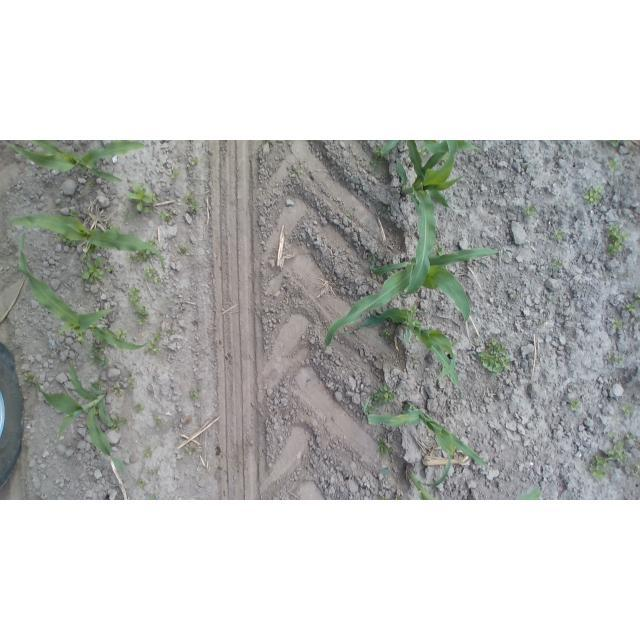Maize: (326, 247, 511, 347), (19, 229, 150, 349), (340, 308, 463, 404), (33, 350, 127, 475), (396, 141, 464, 296), (10, 215, 167, 274), (363, 395, 488, 466), (3, 141, 149, 184), (406, 453, 452, 500), (423, 140, 482, 154), (514, 486, 542, 500), (379, 141, 399, 156), (148, 493, 156, 500)
Weeds: (588, 441, 628, 481), (478, 336, 511, 377), (127, 182, 157, 214), (605, 223, 630, 256), (79, 256, 105, 282), (370, 380, 397, 404), (87, 342, 110, 370), (145, 332, 164, 356), (583, 184, 603, 206), (377, 435, 392, 457), (183, 193, 200, 211), (133, 306, 149, 325), (128, 287, 142, 308), (112, 416, 128, 433), (608, 349, 624, 365), (127, 252, 150, 263), (570, 398, 584, 415), (608, 158, 623, 173), (521, 202, 537, 216), (189, 386, 202, 403), (626, 463, 640, 478), (550, 258, 564, 273), (551, 228, 565, 242), (369, 160, 384, 173), (372, 147, 387, 160), (602, 141, 629, 148), (84, 243, 96, 257), (622, 404, 634, 418), (188, 156, 198, 172), (73, 330, 86, 342), (159, 211, 173, 222), (144, 267, 157, 278), (92, 373, 102, 387), (115, 329, 129, 339), (113, 384, 124, 396), (613, 318, 624, 330), (378, 328, 391, 338), (24, 371, 37, 381), (368, 254, 376, 270), (434, 244, 444, 256), (627, 301, 637, 313), (178, 245, 189, 255), (171, 170, 182, 180), (292, 168, 303, 178), (407, 305, 417, 316), (142, 447, 152, 457), (135, 403, 145, 413), (167, 327, 177, 337), (381, 467, 392, 476), (605, 431, 617, 439), (138, 479, 147, 489), (154, 415, 163, 425), (107, 225, 122, 231), (418, 147, 427, 156), (365, 406, 375, 414), (382, 203, 390, 213), (626, 434, 637, 441), (188, 448, 197, 456), (70, 208, 79, 216), (66, 241, 78, 247), (546, 296, 555, 304), (567, 205, 577, 212), (57, 236, 68, 242), (635, 291, 640, 304), (145, 469, 155, 475), (153, 277, 161, 284), (378, 496, 389, 501), (128, 377, 137, 383), (414, 357, 421, 364), (537, 321, 544, 328), (514, 295, 521, 302), (602, 273, 610, 279), (444, 153, 449, 162), (88, 180, 95, 186), (622, 271, 629, 277), (107, 267, 113, 273), (262, 140, 268, 146), (395, 495, 402, 500), (129, 387, 136, 392), (460, 230, 465, 237), (128, 369, 132, 377), (567, 313, 575, 317), (525, 436, 531, 441), (345, 213, 351, 218), (614, 416, 619, 421), (473, 340, 479, 344), (523, 164, 527, 170), (352, 208, 357, 212), (360, 141, 365, 144)
